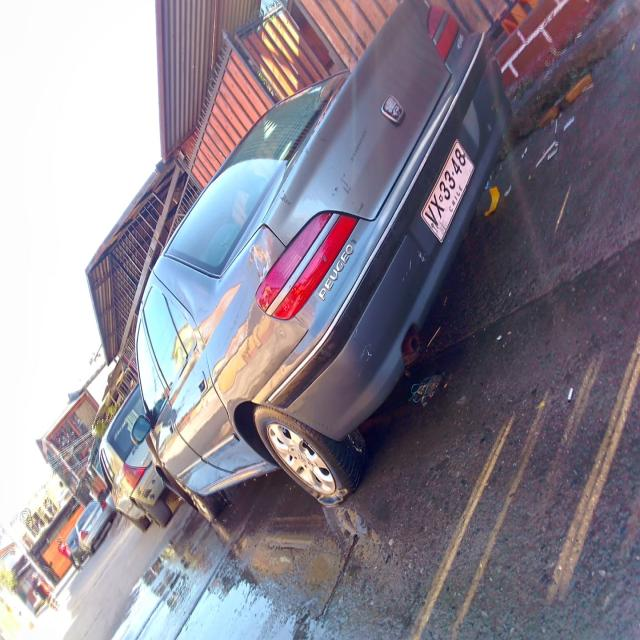patente: (420, 138, 474, 244)
